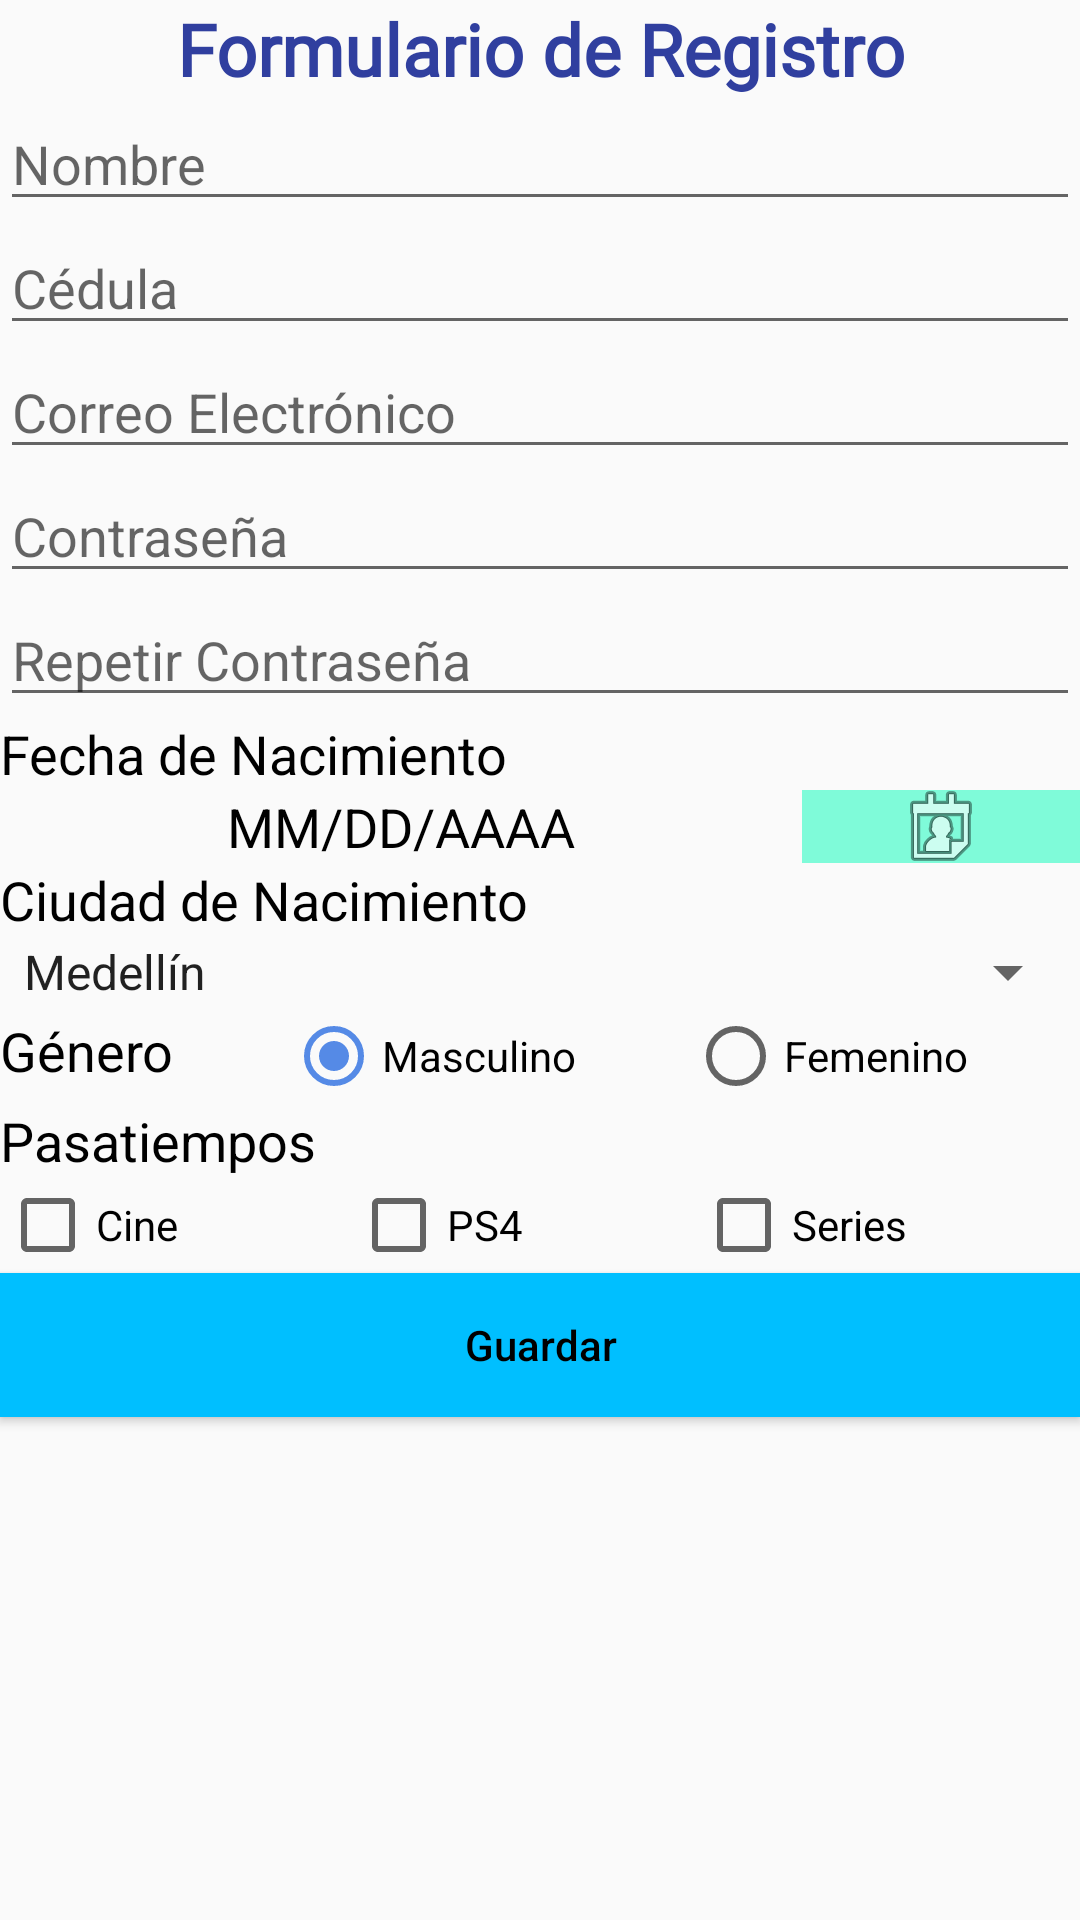

Named icons in this screenshot (1080px×1920px) and their bounding boxes, bbox=(x1, y1, x2, y2):
calendar: bbox=(802, 790, 1080, 863)
